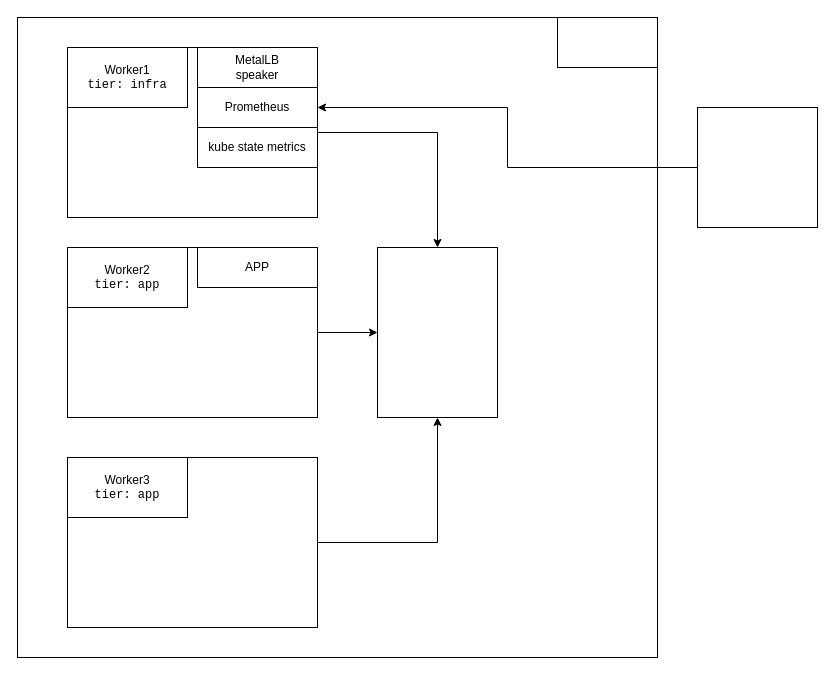
Some shapes in this 835 by 675 pixel diagram are drawn without their labels. The shapes that lost their labels are listed below. From the top down, each one's box as (x1, y1, x2, y2) in pixels, then its label:
(556, 16, 658, 68): Kind K8S
(696, 106, 818, 228): Grafana (Docker)
(376, 246, 498, 418): Control-plane
